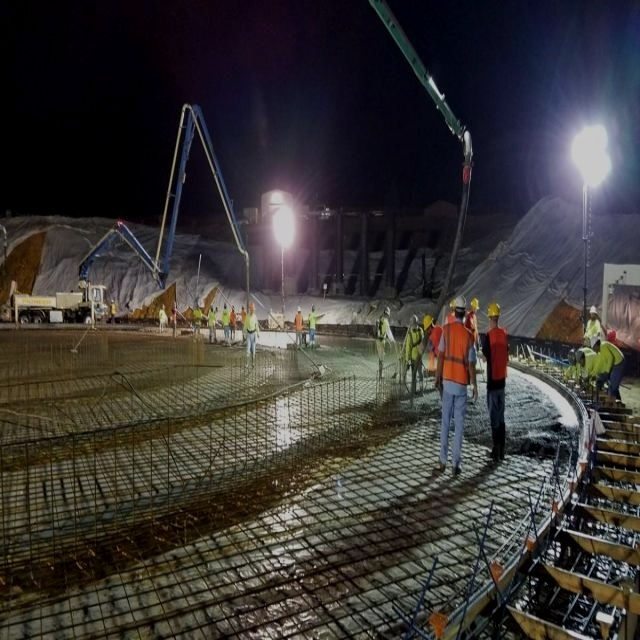Con_Casco: (487, 303, 501, 325), (454, 295, 466, 320)
Con_Chaleco: (442, 325, 472, 391), (486, 328, 510, 385)
